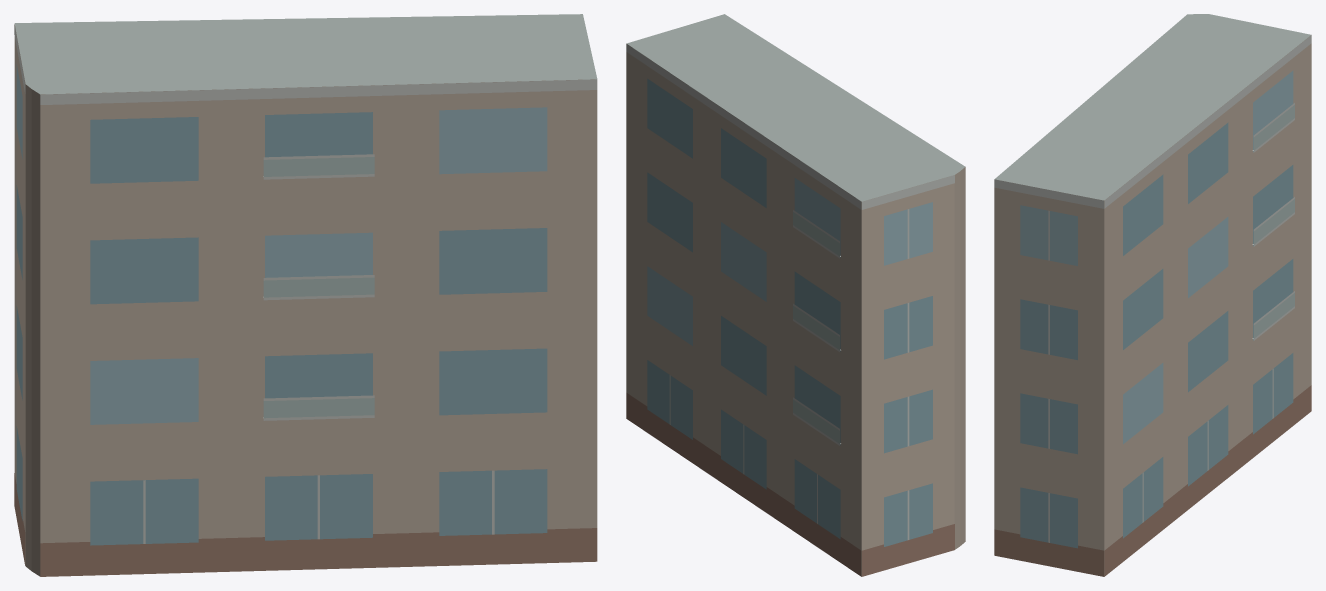
Rendered from survey-upis-32733040.glb.
The picture shows the model from 3 angles, left to right: view 1: azimuth 30°, elevation 25°; view 2: azimuth 150°, elevation 25°; view 3: azimuth 270°, elevation 25°; orthographic projection. The views are drawn at different scales.
Parts seen in each view (by area): view 1: survey-upis-32733040.tmp; view 2: survey-upis-32733040.tmp; view 3: survey-upis-32733040.tmp.
Part boxes in pixels (x1=…): survey-upis-32733040.tmp: x1=14, y1=14, x2=597, y2=576; survey-upis-32733040.tmp: x1=626, y1=14, x2=965, y2=576; survey-upis-32733040.tmp: x1=994, y1=14, x2=1311, y2=576.
Bounding box in the file's own units: 11.7 × 11 × 8.41.
